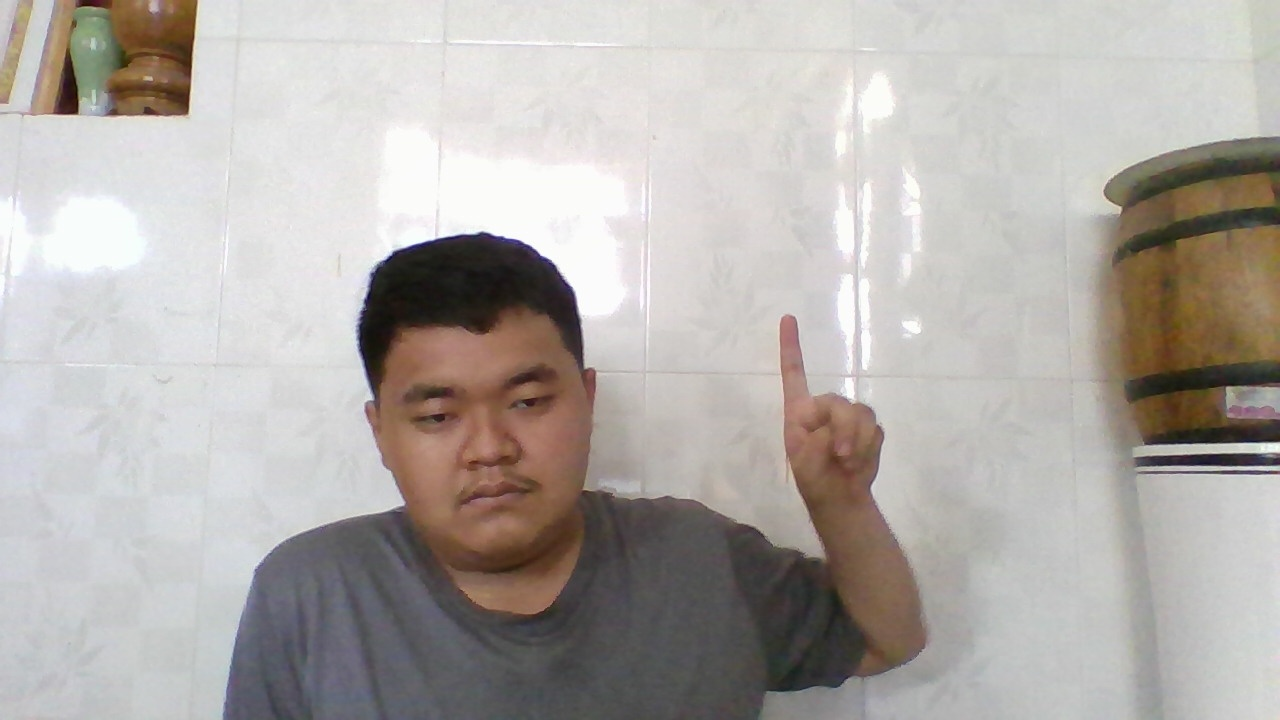D: (770, 303, 893, 516)
